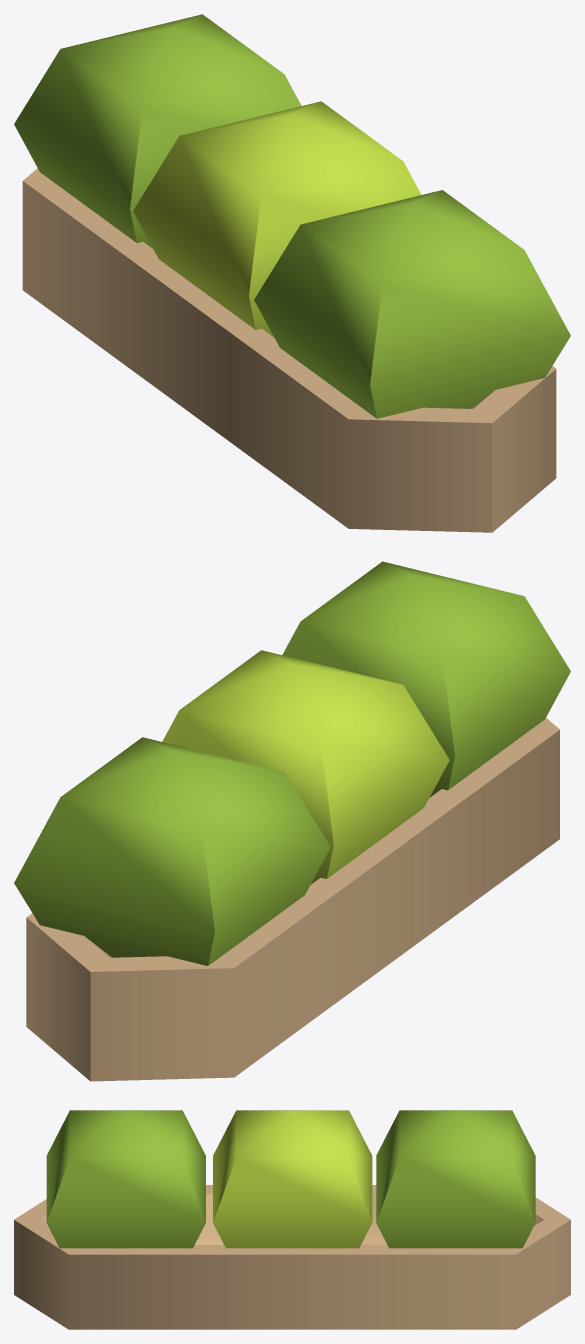
The model's file is PropsClumbafbx.fbx.
3 renders of one model, top to bottom at view 1: azimuth 30°, elevation 25°; view 2: azimuth 150°, elevation 25°; view 3: azimuth 270°, elevation 25°, orthographic. The views are drawn at different scales.
Parts seen in each view (by area): view 1: Plane.027; view 2: Plane.027; view 3: Plane.027.
Part boxes in pixels (box(x1,y1,x2,y2)): Plane.027: box(14, 14, 570, 532); Plane.027: box(14, 561, 570, 1081); Plane.027: box(14, 1110, 570, 1329).
Size of the model in its own units: 15.41 by 19.03 by 52.11.
